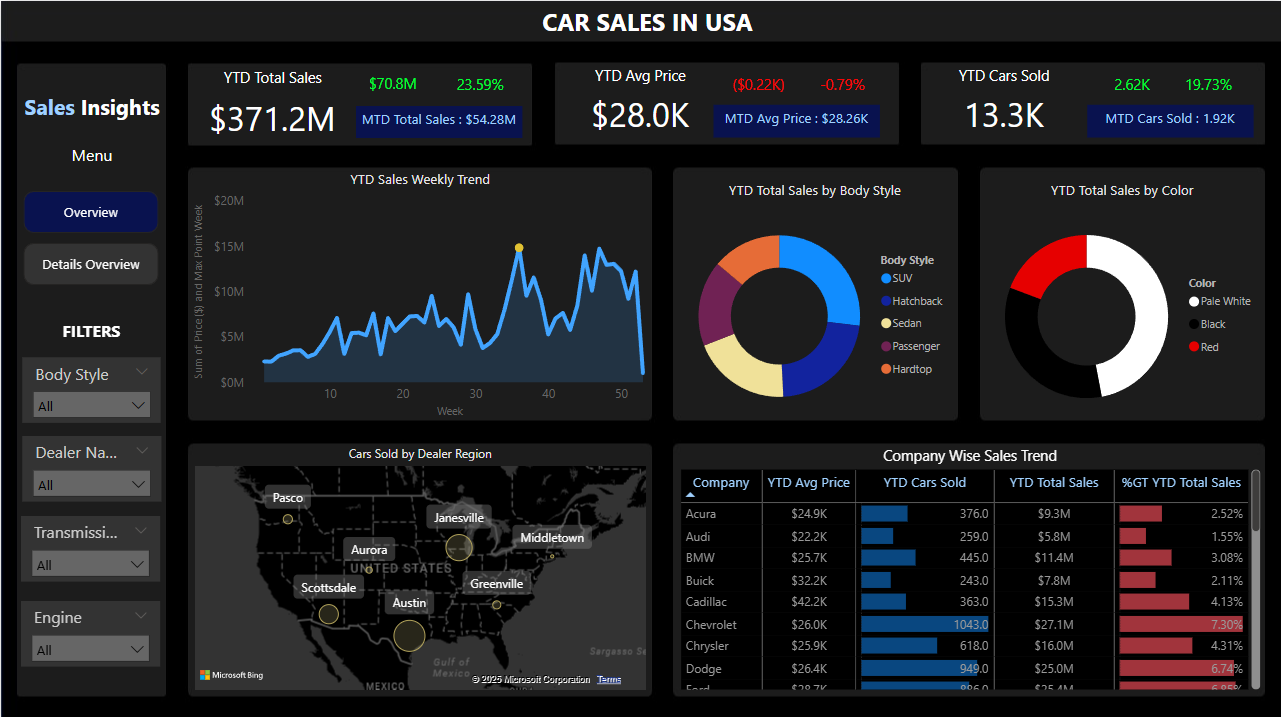

The dashboard page shown, as its layout file describes it:
{"tool":"powerbi","page":{"name":"Overview","canvas":[1280,720],"ordinal":0},"visuals":[{"type":"card","title":"YTD Total Sales","fields":{"Values":["car_data.YTD Total Sales"]},"box":[189,66,166,83],"z":0},{"type":"card","fields":{"Values":["car_data.Sales Difference"]},"box":[346.5,64.1,91.2,41.8],"z":1000},{"type":"card","fields":{"Values":["car_data.YOY Sales Growth"]},"box":[437.6,64.7,83.5,41.2],"z":2000},{"type":"card","fields":{"Values":["car_data.MTD KPI"]},"box":[354.7,105.3,166.5,31.8],"z":3000},{"type":"card","title":"YTD Avg Price","fields":{"Values":["car_data.YTD Avg Price"]},"box":[556.2,63.8,166.2,80],"z":4000},{"type":"card","fields":{"Values":["car_data.Avg Price Diff"]},"box":[712.5,65,90,41.2],"z":5000},{"type":"card","fields":{"Values":["car_data.YOY Avg Price"]},"box":[796.2,65,90,41.2],"z":6000},{"type":"card","fields":{"Values":["car_data.MTD Avg Price KPI"]},"box":[712.5,103.8,166.2,32.5],"z":7000},{"type":"card","title":"YTD Avg Price","fields":{"Values":["car_data.YTD Avg Price"]},"box":[1371.7,56.7,168.3,80],"z":8000},{"type":"card","title":"YTD Cars Sold","fields":{"Values":["car_data.YTD Cars Sold"]},"box":[920,63.8,166.2,80],"z":9000},{"type":"card","fields":{"Values":["car_data.Cars Sold Diff"]},"box":[1086,65,90,41],"z":10000},{"type":"card","fields":{"Values":["car_data.YOY Cars Sold Growth"]},"box":[1162,65,90,41],"z":11000},{"type":"card","fields":{"Values":["car_data.MTD Cars Sold KPI"]},"box":[1086.2,103.8,166.2,32.5],"z":12000},{"type":"areaChart","title":"YTD Sales Weekly Trend","fields":{"Category":["Calendar Table.Week"],"Y":["Sum(car_data.Price ($))","car_data.Max Point Week"]},"box":[188.9,168.9,461.1,253.3],"z":13000},{"type":"donutChart","fields":{"Category":["car_data.Body Style"],"Y":["car_data.YTD Total Sales"]},"box":[673,180,283,253],"z":14000},{"type":"donutChart","fields":{"Y":["car_data.YTD Total Sales"],"Category":["car_data.Color"]},"box":[979,180,285,254],"z":15000},{"type":"map","title":"Cars Sold by Dealer Region","fields":{"Category":["car_data.Dealer_Region"],"Size":["car_data.YTD Cars Sold"]},"box":[189,444,461,250],"z":16000},{"type":"tableEx","title":"Company Wise Sales Trend","fields":{"Values":["car_data.Company","car_data.YTD Avg Price","car_data.YTD Cars Sold","car_data.YTD Total Sales","Divide(car_data.YTD Total Sales, ScopedEval(car_data.YTD Total Sales, []))"]},"box":[673.3,444.2,590.8,250],"z":17000},{"type":"textbox","box":[535.7,0,230,42.9],"z":18000},{"type":"slicer","fields":{"Values":["car_data.Body Style"]},"box":[21.4,355.7,138.6,65.7],"z":19000},{"type":"slicer","fields":{"Values":["car_data.Dealer_Name"]},"box":[21.1,434.4,138.9,65.6],"z":20000},{"type":"slicer","fields":{"Values":["car_data.Transmission"]},"box":[20,515.6,138.9,65.6],"z":21000},{"type":"slicer","fields":{"Values":["car_data.Engine"]},"box":[20,600,138.9,65.6],"z":22000},{"type":"textbox","box":[21.7,313.3,138.3,43.3],"z":23000},{"type":"textbox","box":[12,86,157,43],"z":24000},{"type":"textbox","box":[60,137,62,37],"z":25000},{"type":"pageNavigator","box":[23,190,135,95],"z":26000}]}

Visuals, with their boxes in screenshot pixels (x1, y1, x2, y2), scaled from the page's 1280x720 canvas onto the 1281x717 screenshot:
"YTD Total Sales" card: x1=189 y1=66 x2=355 y2=148
card - car_data.Sales Difference: x1=347 y1=64 x2=438 y2=105
card - car_data.YOY Sales Growth: x1=438 y1=64 x2=522 y2=105
card - car_data.MTD KPI: x1=355 y1=105 x2=522 y2=137
"YTD Avg Price" card: x1=557 y1=64 x2=723 y2=143
card - car_data.Avg Price Diff: x1=713 y1=65 x2=803 y2=106
card - car_data.YOY Avg Price: x1=797 y1=65 x2=887 y2=106
card - car_data.MTD Avg Price KPI: x1=713 y1=103 x2=879 y2=136
"YTD Cars Sold" card: x1=921 y1=64 x2=1087 y2=143
card - car_data.Cars Sold Diff: x1=1087 y1=65 x2=1177 y2=106
card - car_data.YOY Cars Sold Growth: x1=1163 y1=65 x2=1253 y2=106
card - car_data.MTD Cars Sold KPI: x1=1087 y1=103 x2=1253 y2=136
"YTD Sales Weekly Trend" areaChart: x1=189 y1=168 x2=651 y2=420
donutChart - car_data.Body Style x car_data.YTD Total Sales: x1=674 y1=179 x2=957 y2=431
donutChart - car_data.YTD Total Sales x car_data.Color: x1=980 y1=179 x2=1265 y2=432
"Cars Sold by Dealer Region" map: x1=189 y1=442 x2=651 y2=691
"Company Wise Sales Trend" tableEx: x1=674 y1=442 x2=1265 y2=691
textbox: x1=536 y1=0 x2=766 y2=43
slicer - car_data.Body Style: x1=21 y1=354 x2=160 y2=420
slicer - car_data.Dealer_Name: x1=21 y1=433 x2=160 y2=498
slicer - car_data.Transmission: x1=20 y1=513 x2=159 y2=579
slicer - car_data.Engine: x1=20 y1=598 x2=159 y2=663
textbox: x1=22 y1=312 x2=160 y2=355
textbox: x1=12 y1=86 x2=169 y2=128
textbox: x1=60 y1=136 x2=122 y2=173
pageNavigator: x1=23 y1=189 x2=158 y2=284
